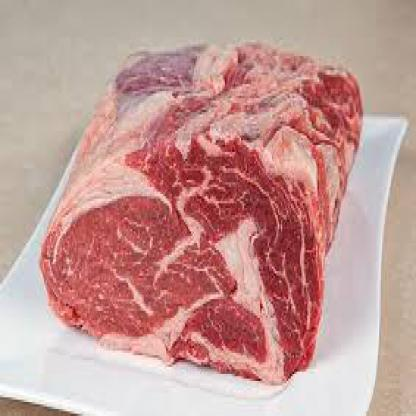beef: (82, 54, 337, 369)
